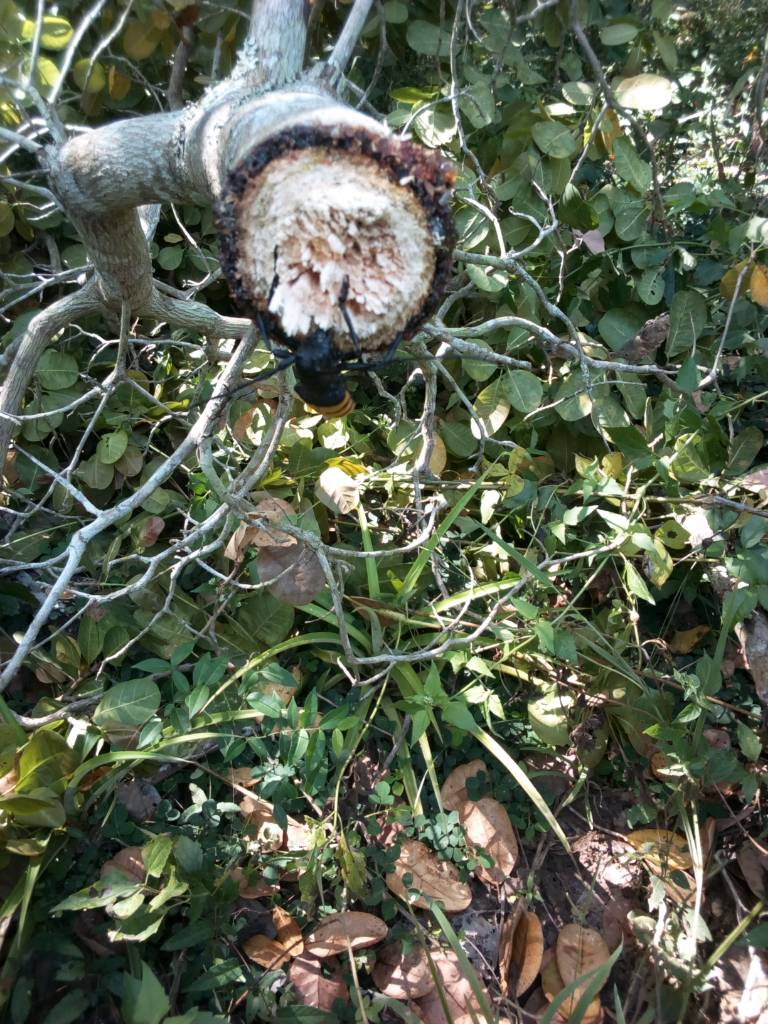Analepse trifasciata: (211, 128, 469, 361)
